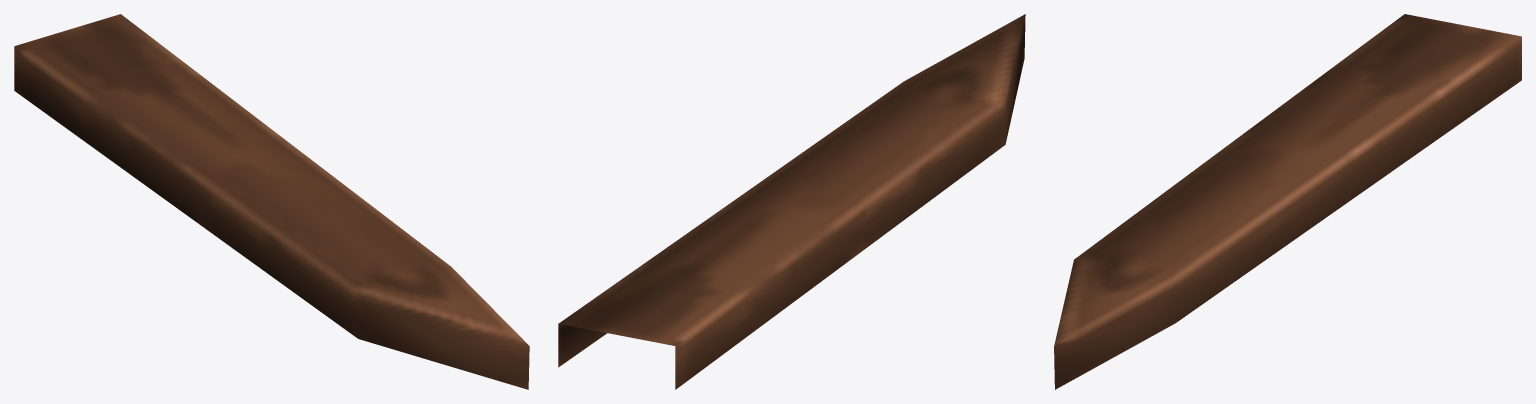
File: sn_jiguan_tielong_008.FBX
3 renders of one model, left to right at view 1: azimuth 30°, elevation 25°; view 2: azimuth 150°, elevation 25°; view 3: azimuth 330°, elevation 25°, orthographic.
Parts seen in each view (by area): view 1: sn_jiguan_tielong_008; view 2: sn_jiguan_tielong_008; view 3: sn_jiguan_tielong_008.
Part boxes in pixels (x1,y1,x2,y2): sn_jiguan_tielong_008: [14, 14, 529, 389]; sn_jiguan_tielong_008: [558, 14, 1025, 389]; sn_jiguan_tielong_008: [1054, 14, 1521, 389].
Bounding box in the file's own units: 25.73 × 9.73 × 175.
